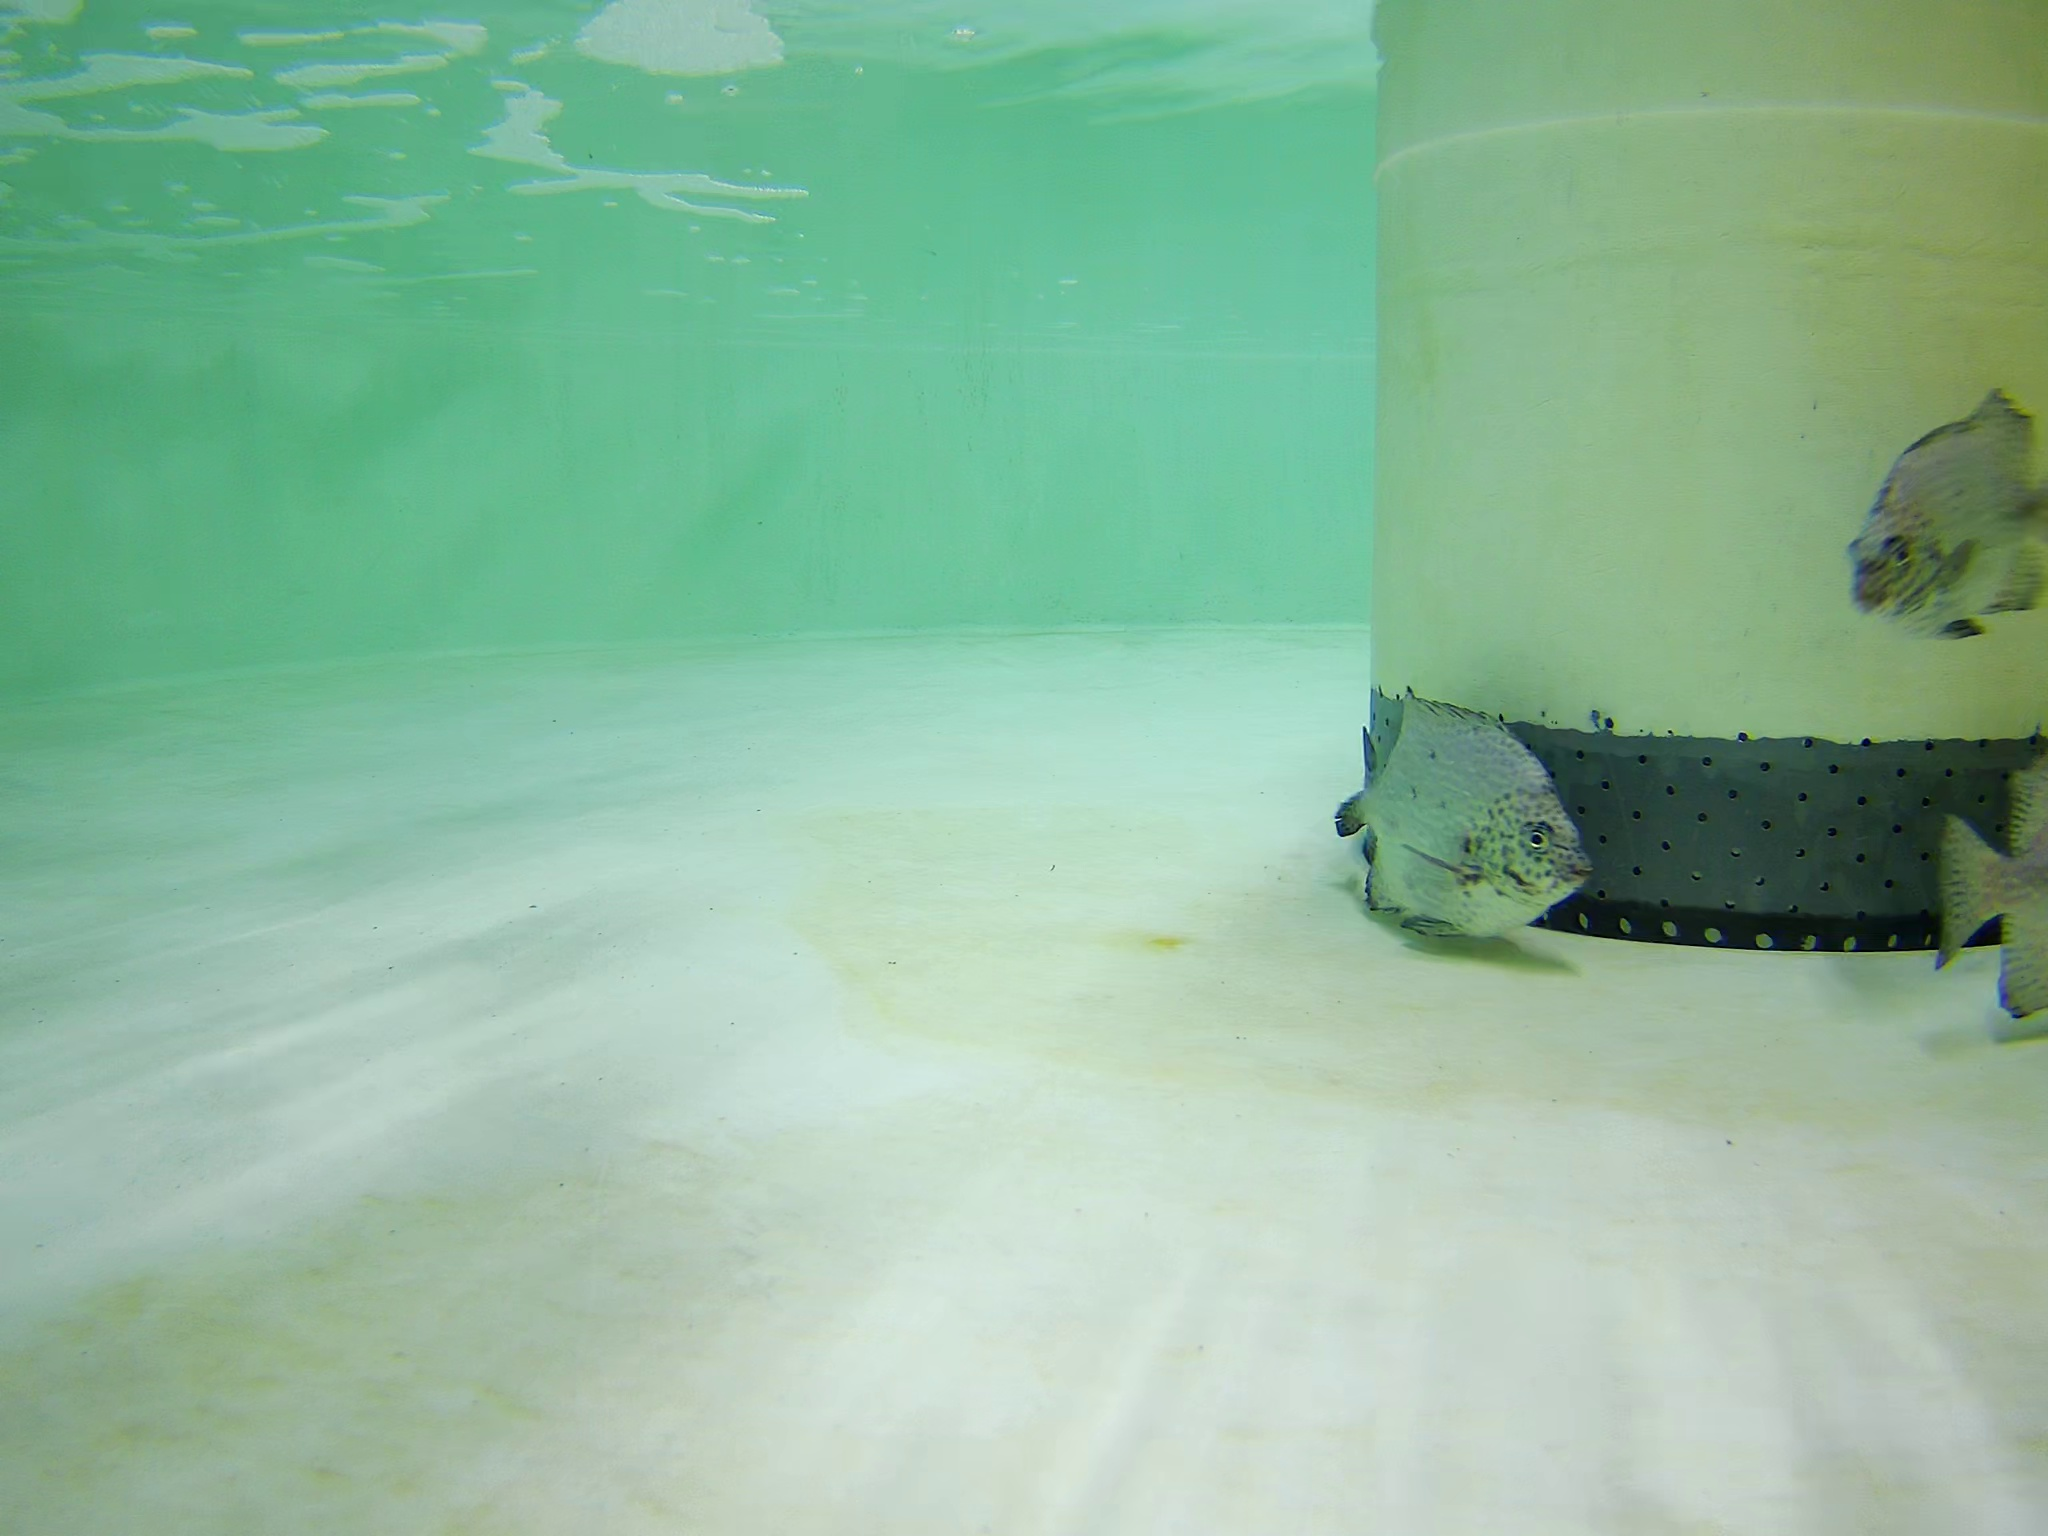fish: (1329, 684, 1590, 947), (1842, 390, 2048, 639), (1927, 741, 2048, 1037)
